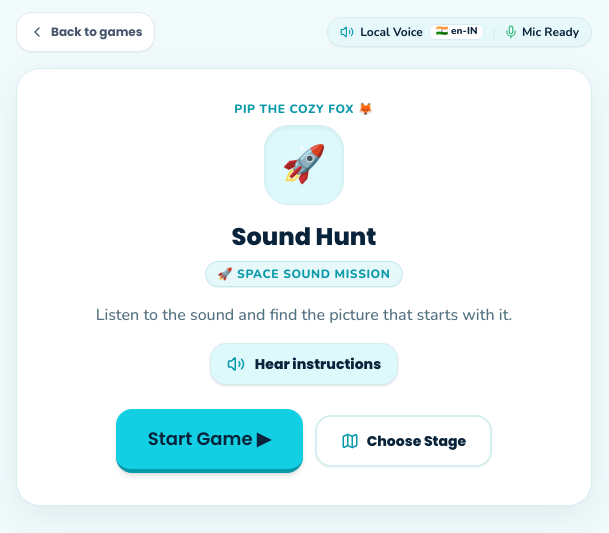
Gaming Zone System Suite › 4. Sound Hunt game launches and provides interactive picture choices
Click the button "Start Game ▶" at (209, 441), box [116,409,303,473]
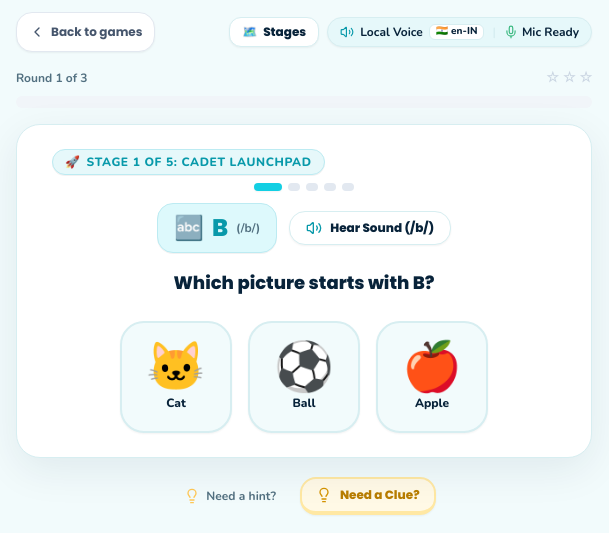
Now the text "Which picture starts with B?" is shown, box [173,270,434,295]
Now the button labelled "⚽ Ball" is shown, box [248,321,360,433]
Now the button labelled "🐱 Cat" is shown, box [120,321,232,433]
